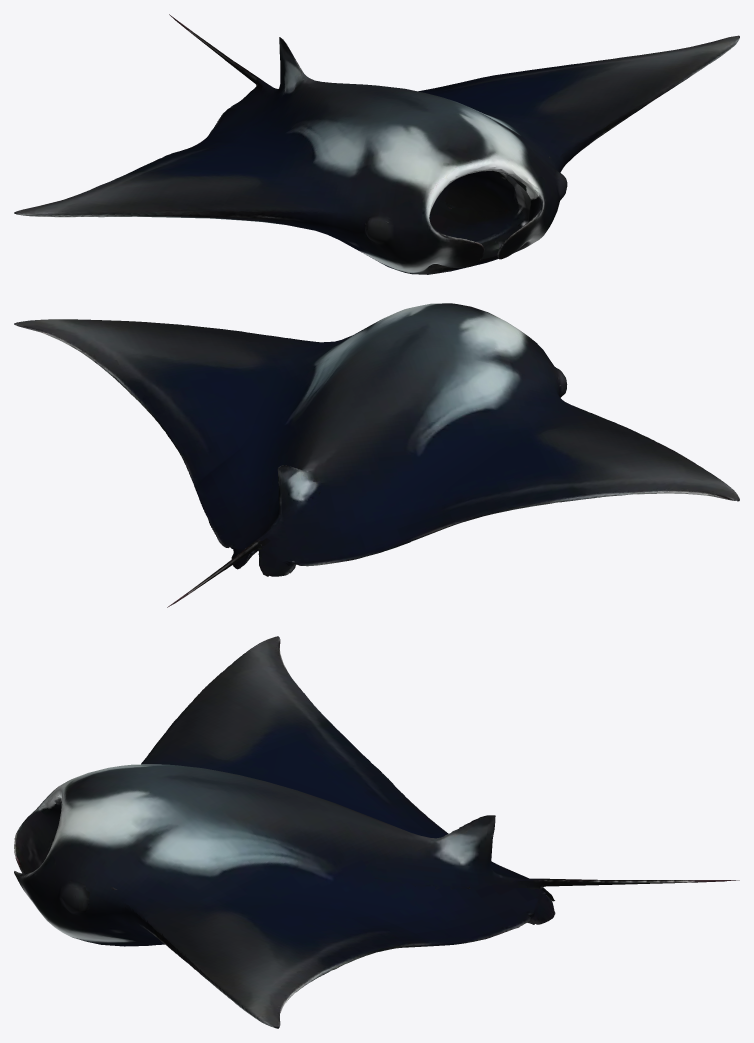
Rendered from manta-ray.glb.
3 views of the same model, one above another, from view 1: azimuth 30°, elevation 25°; view 2: azimuth 150°, elevation 25°; view 3: azimuth 270°, elevation 25° (orthographic). The views are drawn at different scales.
Visible parts, largest first — view 1: Object_4; view 2: Object_4; view 3: Object_4.
Boxes of the visible parts, <box> form: Object_4: <box>14,14,739,274</box>; Object_4: <box>14,303,739,607</box>; Object_4: <box>14,636,739,1028</box>.
Size of the model in its own units: 1.9 by 0.3403 by 1.49.
Materials: 1 (1 with a texture image).
